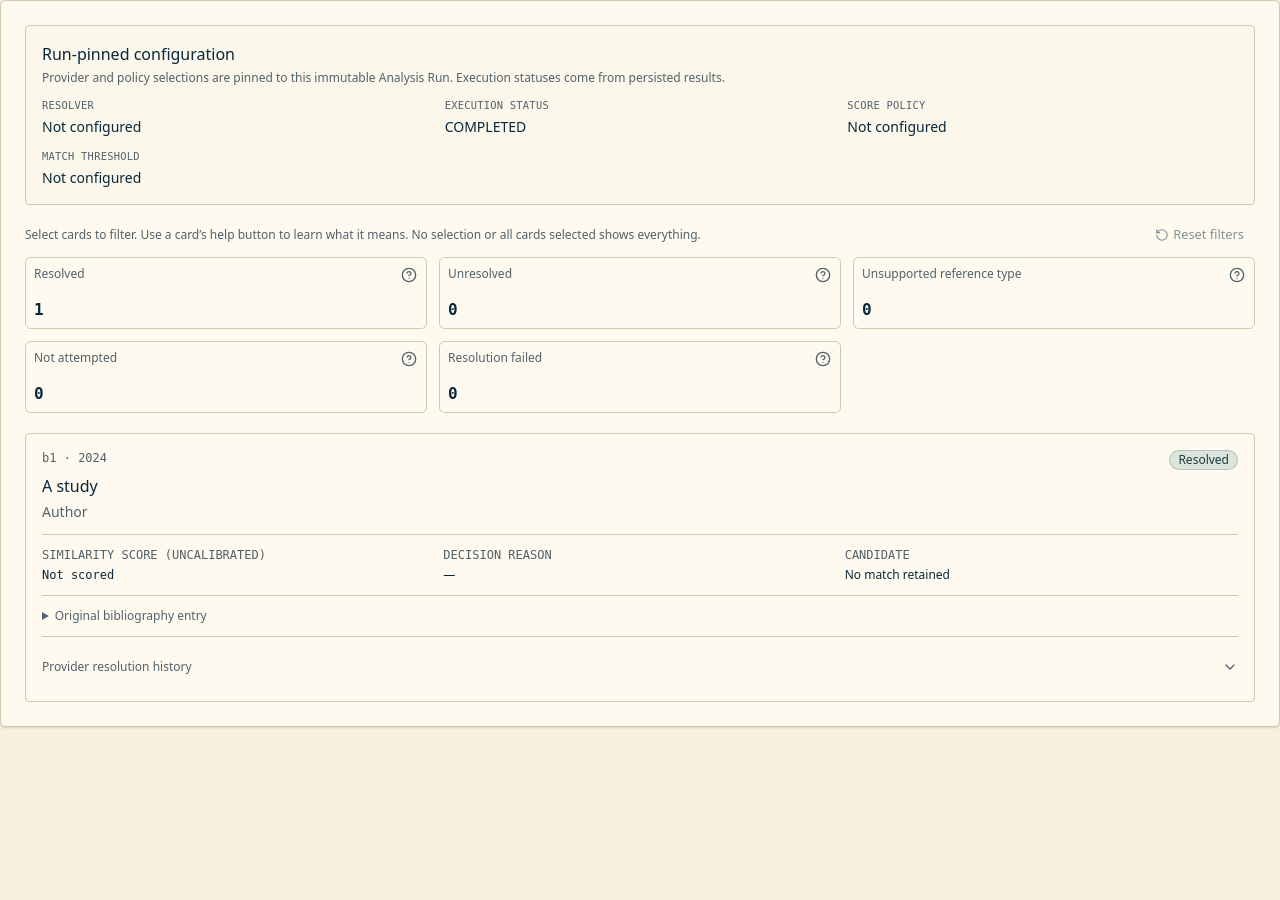
Analysis Run bibliography display keys › shows saved provider-chain history in the active reference-results card
Step 1. Click the button "Provider resolution history" → (117, 666), box [42,649,1238,685]
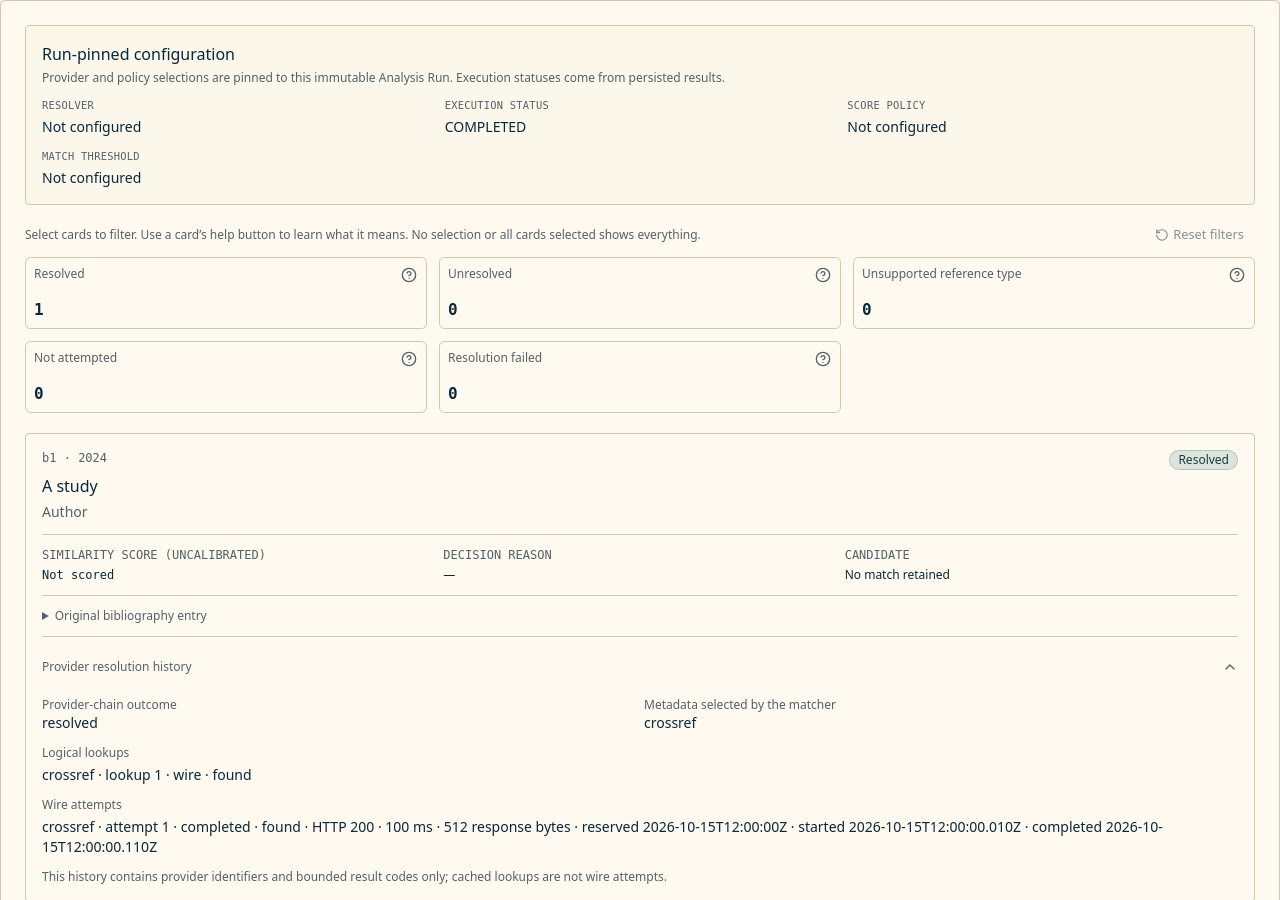
Now the button "Provider resolution history" is expanded, box [42,649,1238,685]
